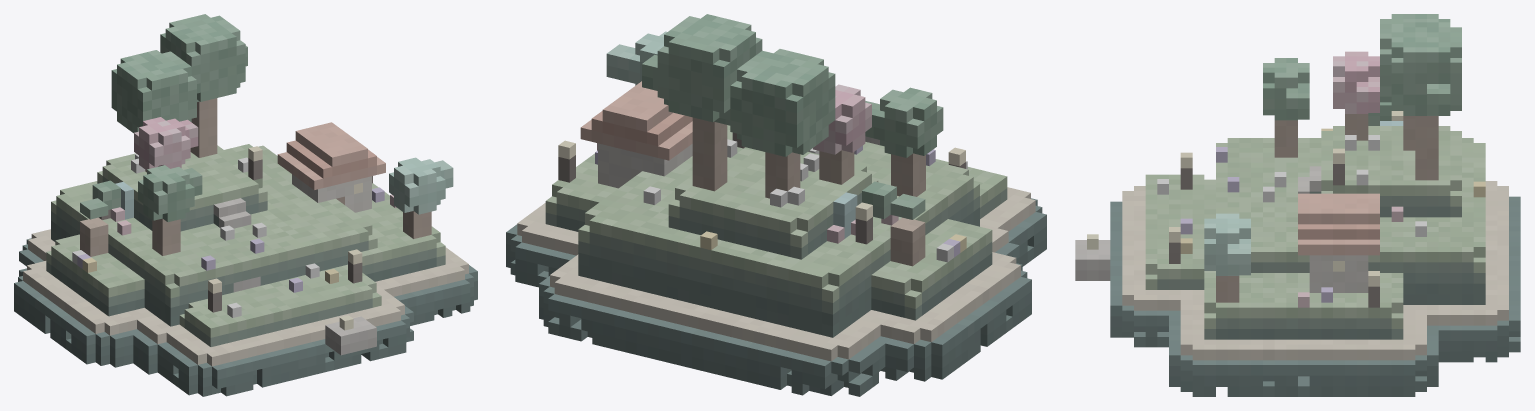
Rendered from island.glb.
3 views of the same model, side by side, from view 1: azimuth 30°, elevation 25°; view 2: azimuth 150°, elevation 25°; view 3: azimuth 270°, elevation 25° (orthographic). The views are drawn at different scales.
Visible parts, largest first — view 1: island, glow; view 2: island, glow; view 3: island, glow.
Boxes of the visible parts, bbox=[...] form: island: bbox=[14, 14, 477, 396]; glow: bbox=[208, 146, 362, 330]; island: bbox=[506, 14, 1046, 396]; glow: bbox=[558, 140, 965, 221]; island: bbox=[1075, 14, 1520, 396]; glow: bbox=[1087, 111, 1403, 286].
Bounding box in the file's own units: 2.2 × 1.37 × 2.09.
